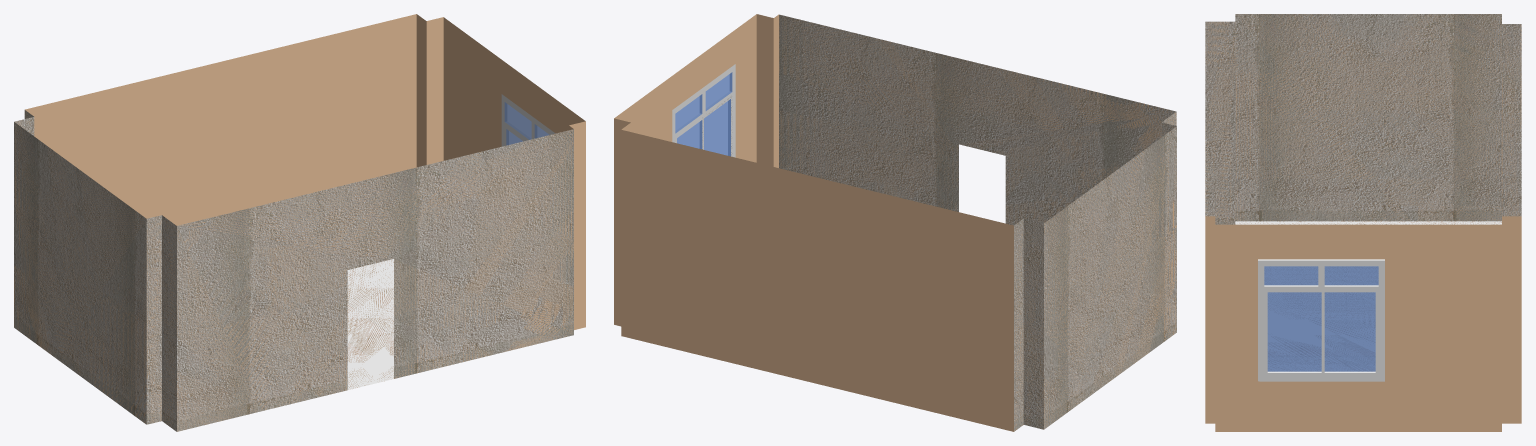
The model's file is DES032.obj.
3 renders of one model, left to right at view 1: azimuth 30°, elevation 25°; view 2: azimuth 150°, elevation 25°; view 3: azimuth 270°, elevation 25°, orthographic.
Parts seen in each view (by area): view 1: Mesh9 DES032 Model, Mesh1 ventana5_1 DES032 Model; view 2: Mesh9 DES032 Model, Mesh1 ventana5_1 DES032 Model; view 3: Mesh9 DES032 Model, Mesh1 ventana5_1 DES032 Model.
Boxes of the visible parts, x1,y1,x2,y2 form: Mesh9 DES032 Model: (14,14,585,431); Mesh1 ventana5_1 DES032 Model: (501,94,555,146); Mesh9 DES032 Model: (614,14,1176,431); Mesh1 ventana5_1 DES032 Model: (672,64,735,157); Mesh9 DES032 Model: (1205,14,1521,431); Mesh1 ventana5_1 DES032 Model: (1258,259,1384,381).
Size of the model in its own units: 7.9 by 3.6 by 4.98.
6 materials, 2 textured.
